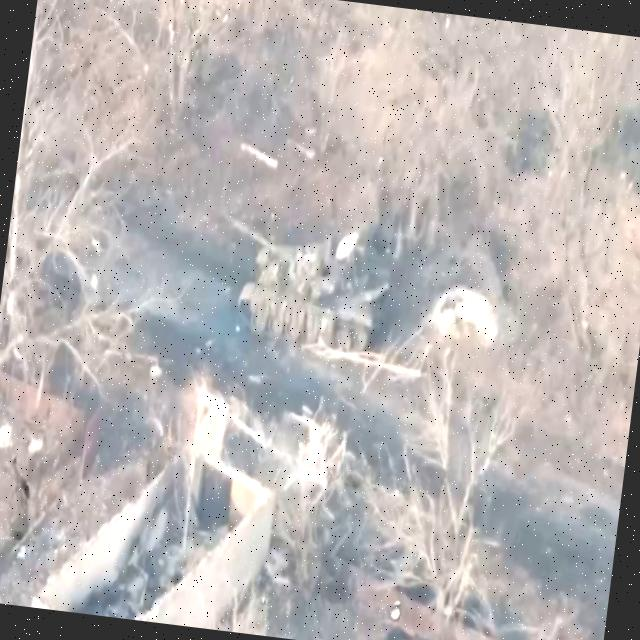MBT: (191, 195, 399, 361)
